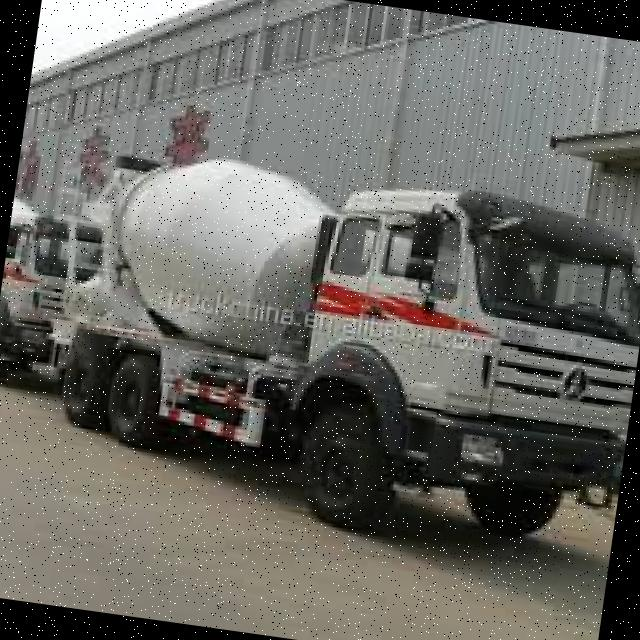Mixer Truck: (15, 127, 640, 569), (0, 189, 122, 394)
